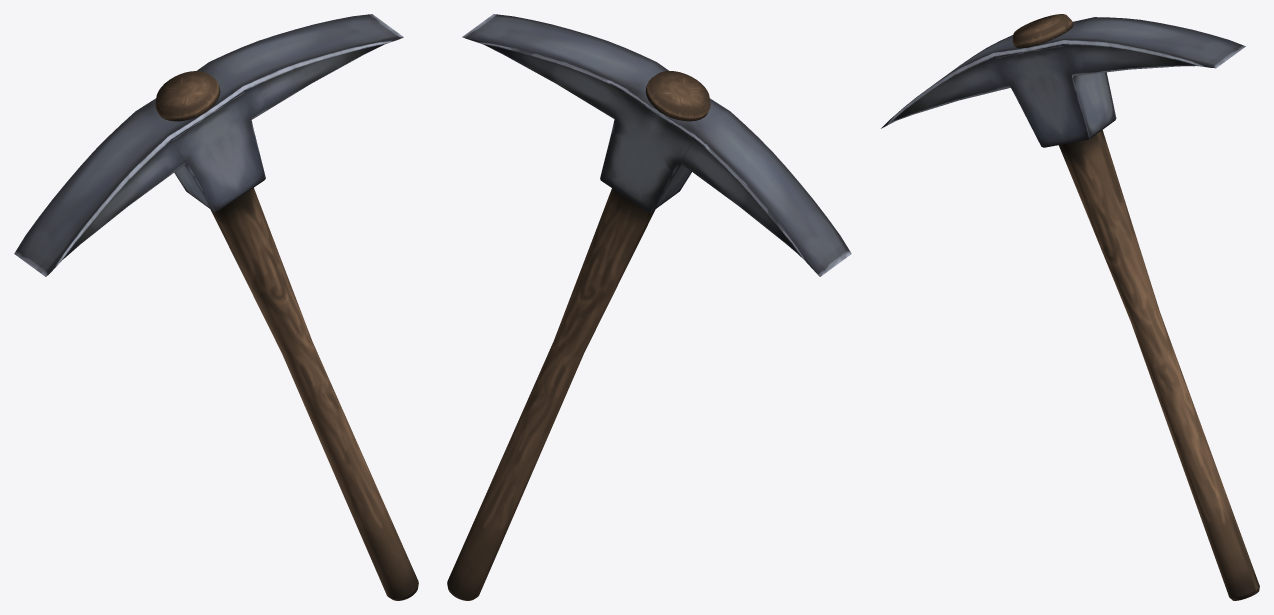
File: Pico Modelado.fbx
3 renders of one model, left to right at view 1: azimuth 30°, elevation 25°; view 2: azimuth 150°, elevation 25°; view 3: azimuth 330°, elevation 25°, orthographic. The views are drawn at different scales.
Visible parts, largest first — view 1: pico, Mango; view 2: pico, Mango; view 3: pico, Mango.
Boxes of the visible parts, bbox=[...] form: pico: bbox=[14, 14, 403, 276]; Mango: bbox=[155, 71, 418, 600]; pico: bbox=[462, 14, 851, 276]; Mango: bbox=[447, 71, 710, 600]; pico: bbox=[881, 17, 1245, 147]; Mango: bbox=[1012, 14, 1259, 600].
Bounding box in the file's own units: 438 × 626 × 69.51.
